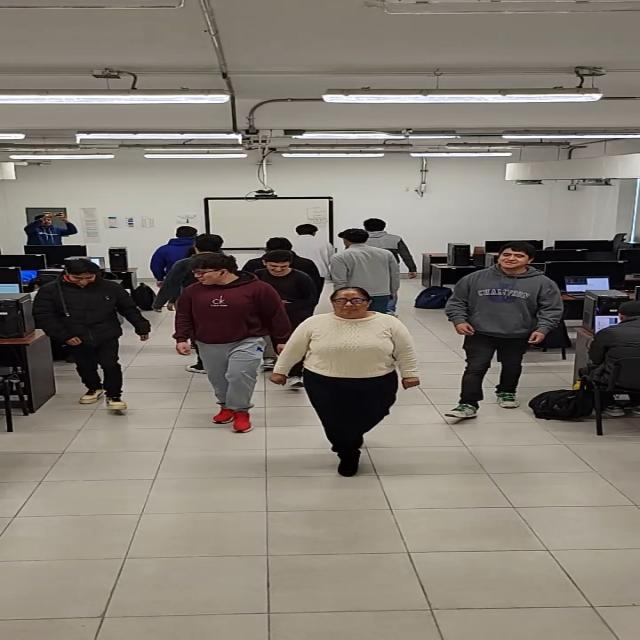Persona: (289, 286, 417, 482), (452, 241, 558, 421), (33, 258, 136, 422), (178, 254, 264, 433), (332, 228, 398, 296), (264, 237, 315, 313)
